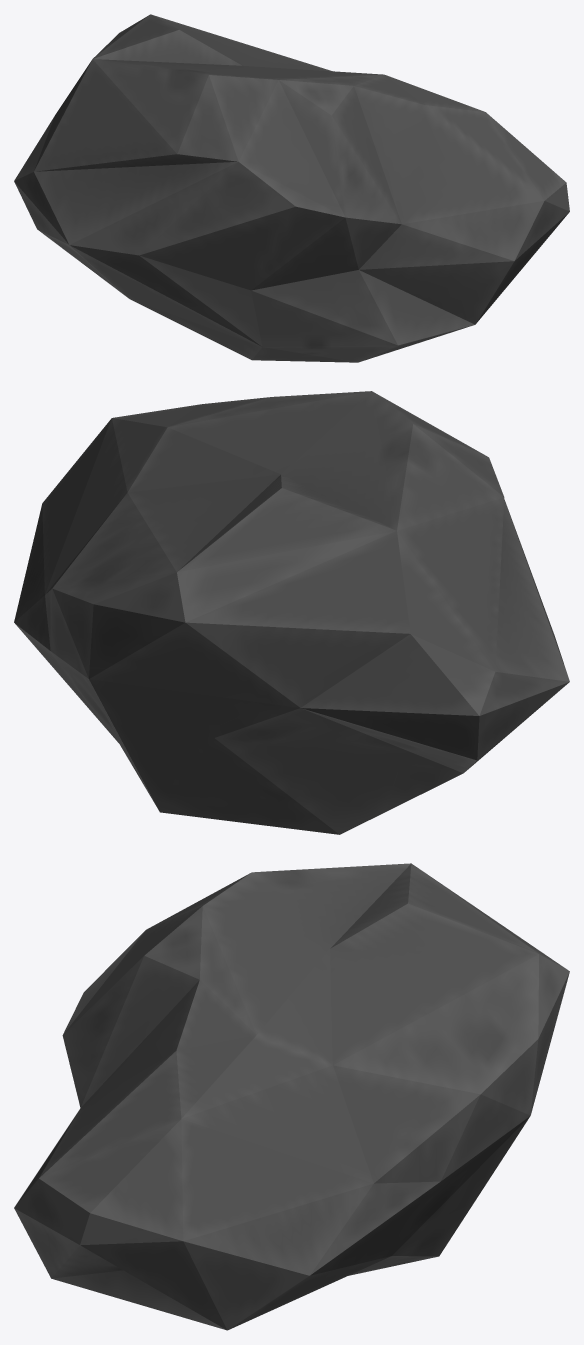
File: asteroid11.glb
3 views of the same model, one above another, from view 1: azimuth 30°, elevation 25°; view 2: azimuth 150°, elevation 25°; view 3: azimuth 270°, elevation 25° (orthographic). The views are drawn at different scales.
Visible parts, largest first — view 1: Asteroids_Mesh.011; view 2: Asteroids_Mesh.011; view 3: Asteroids_Mesh.011.
Part boxes in pixels (x1,y1,x2,y2): Asteroids_Mesh.011: (14,14,569,362); Asteroids_Mesh.011: (14,391,569,834); Asteroids_Mesh.011: (14,863,569,1330).
Size of the model in its own units: 1.34 by 0.9049 by 1.22.
Materials: 1 (1 with a texture image).
